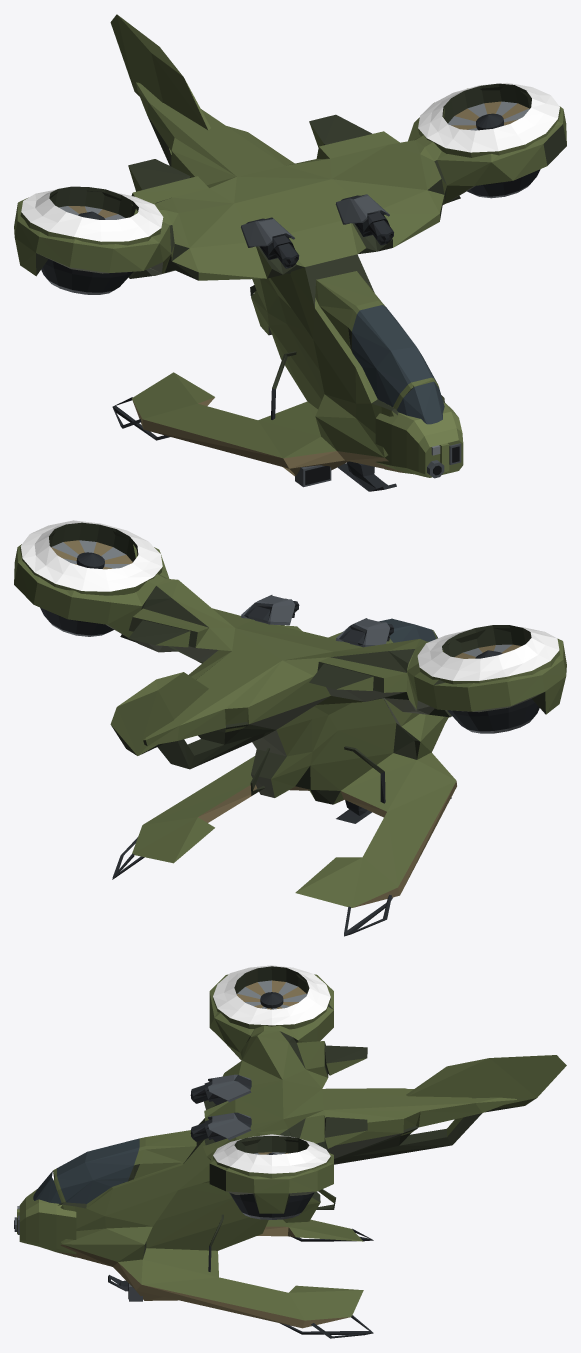
File: hornet.glb
3 renders of one model, top to bottom at view 1: azimuth 30°, elevation 25°; view 2: azimuth 150°, elevation 25°; view 3: azimuth 270°, elevation 25°, orthographic. The views are drawn at different scales.
Bounding box in the file's own units: 0.3799 × 0.1947 × 0.4183.
